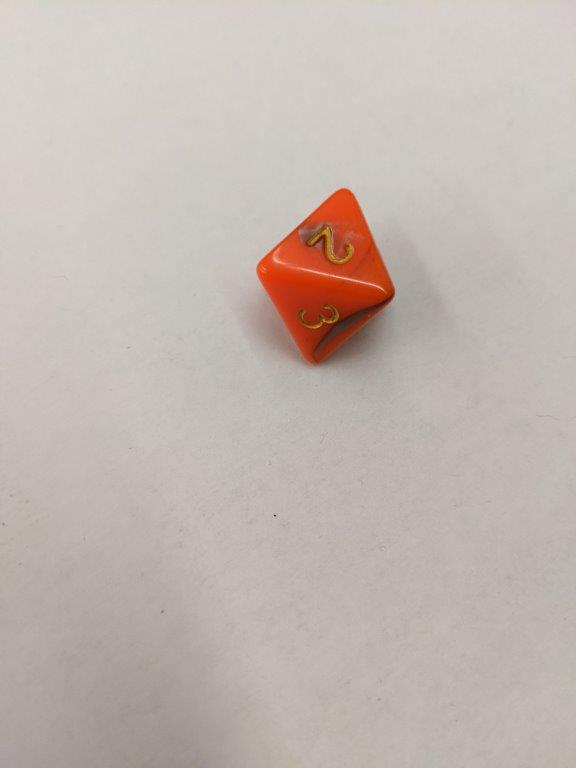d8-2: (256, 185, 396, 366)
